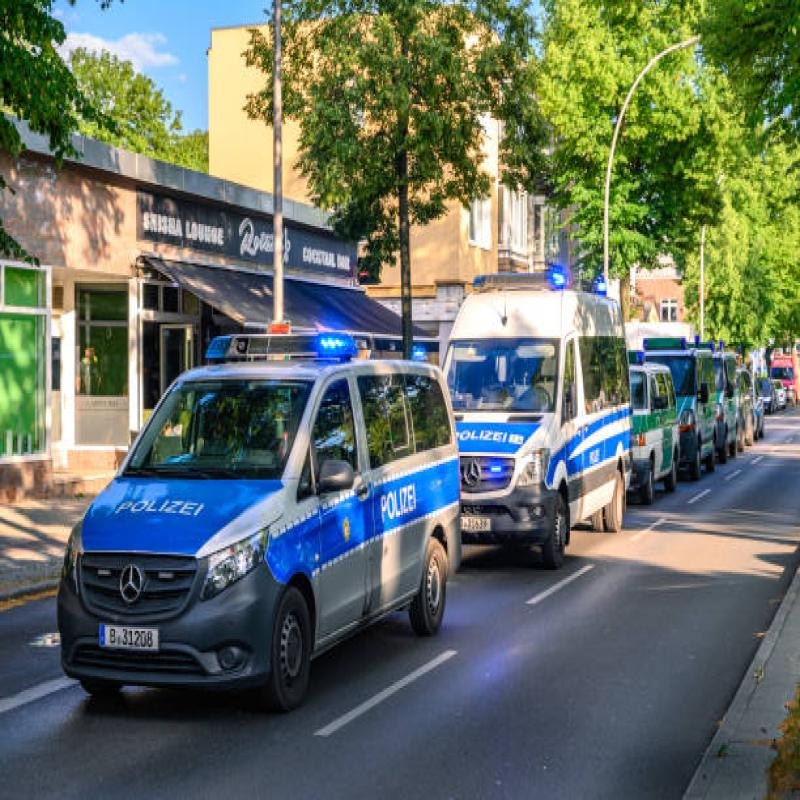AmbulanceSiren: (200, 312, 367, 380), (471, 258, 578, 298)
